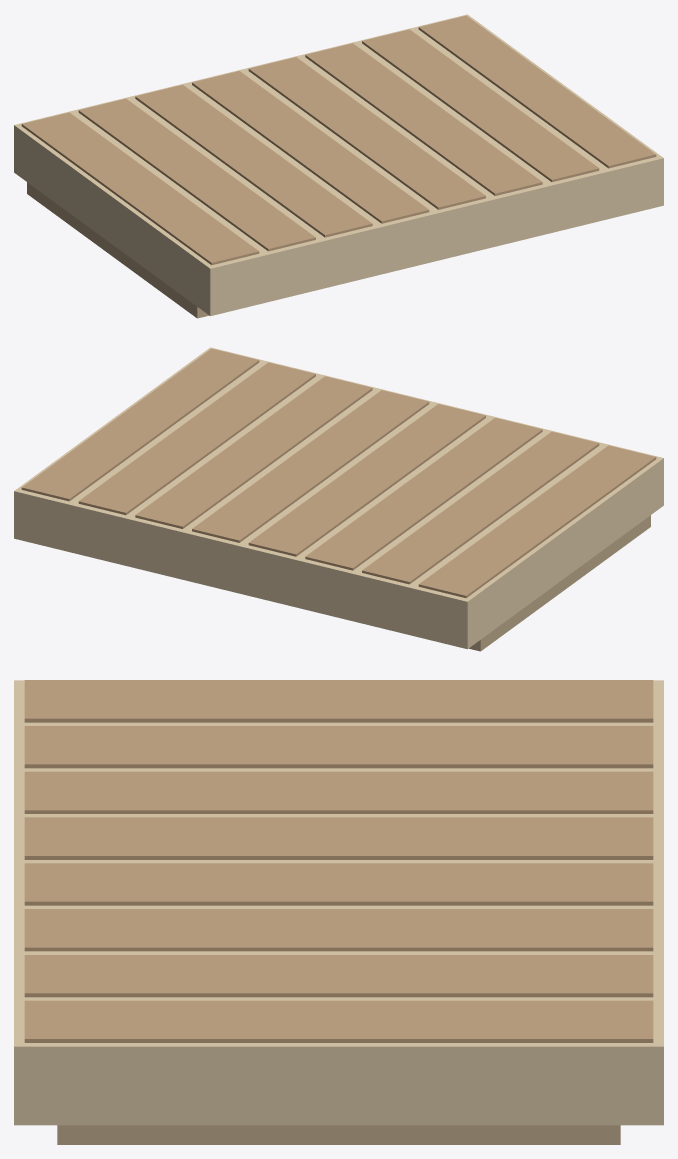
The model's file is SD_Bridge.fbx.
The picture shows the model from 3 angles, top to bottom: view 1: azimuth 30°, elevation 25°; view 2: azimuth 150°, elevation 25°; view 3: azimuth 270°, elevation 25°; orthographic projection. The views are drawn at different scales.
Parts seen in each view (by area): view 1: SD_Bridge; view 2: SD_Bridge; view 3: SD_Bridge.
Part boxes in pixels (<box>): SD_Bridge: <box>14,14,663,318</box>; SD_Bridge: <box>14,347,663,651</box>; SD_Bridge: <box>14,680,663,1144</box>.
Size of the model in its own units: 4 by 0.52 by 3.
